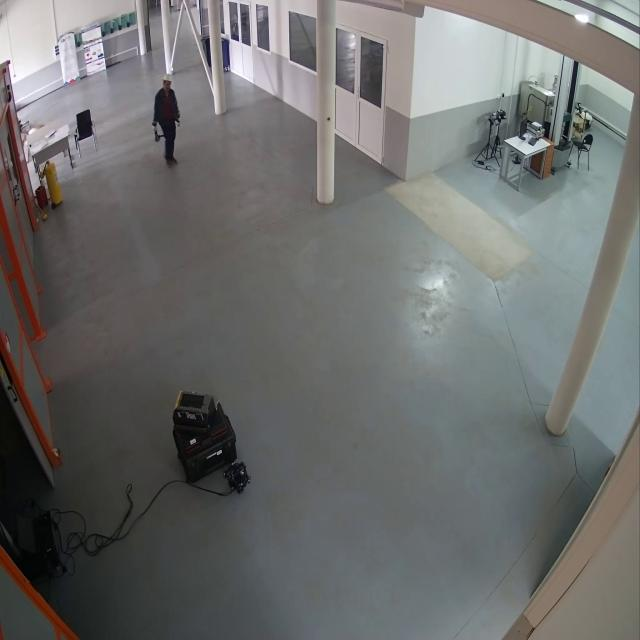Hardhat: (162, 72, 176, 82)
Person: (150, 70, 183, 170)
